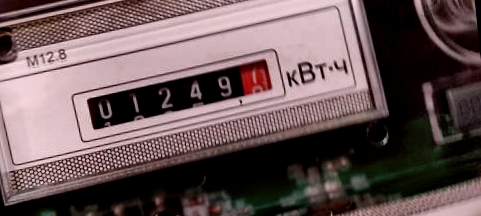0: (93, 93, 114, 120)
1: (124, 89, 142, 115)
2: (154, 83, 176, 111)
4: (185, 74, 206, 103)
7: (244, 60, 261, 86)
9: (214, 71, 234, 98)
screen: (62, 49, 302, 147)
